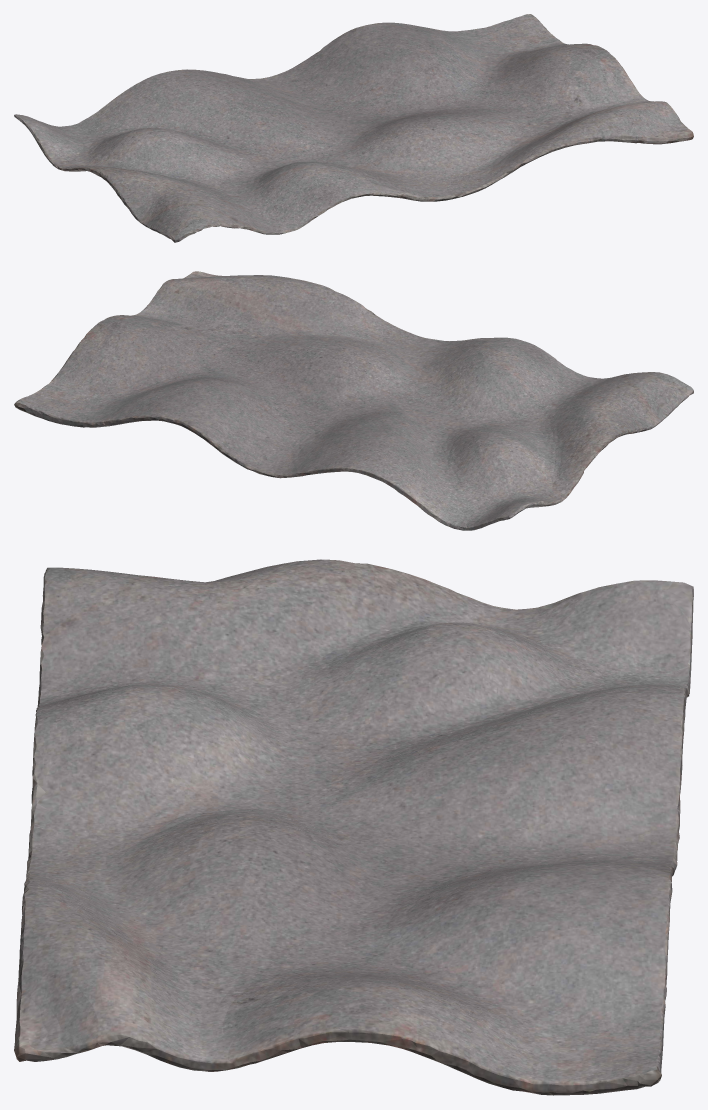
File: stein_comp3.glb
The picture shows the model from 3 angles, top to bottom: view 1: azimuth 30°, elevation 25°; view 2: azimuth 150°, elevation 25°; view 3: azimuth 270°, elevation 25°; orthographic projection. The views are drawn at different scales.
Parts seen in each view (by area): view 1: Sharp fusion 1; view 2: Sharp fusion 1; view 3: Sharp fusion 1.
Boxes of the visible parts, x1=… form: Sharp fusion 1: x1=14, y1=14, x2=693, y2=242; Sharp fusion 1: x1=14, y1=271, x2=693, y2=530; Sharp fusion 1: x1=14, y1=559, x2=693, y2=1095.
Bounding box in the file's own units: 50.06 × 4.3 × 30.38.
1 material, 1 textured.
